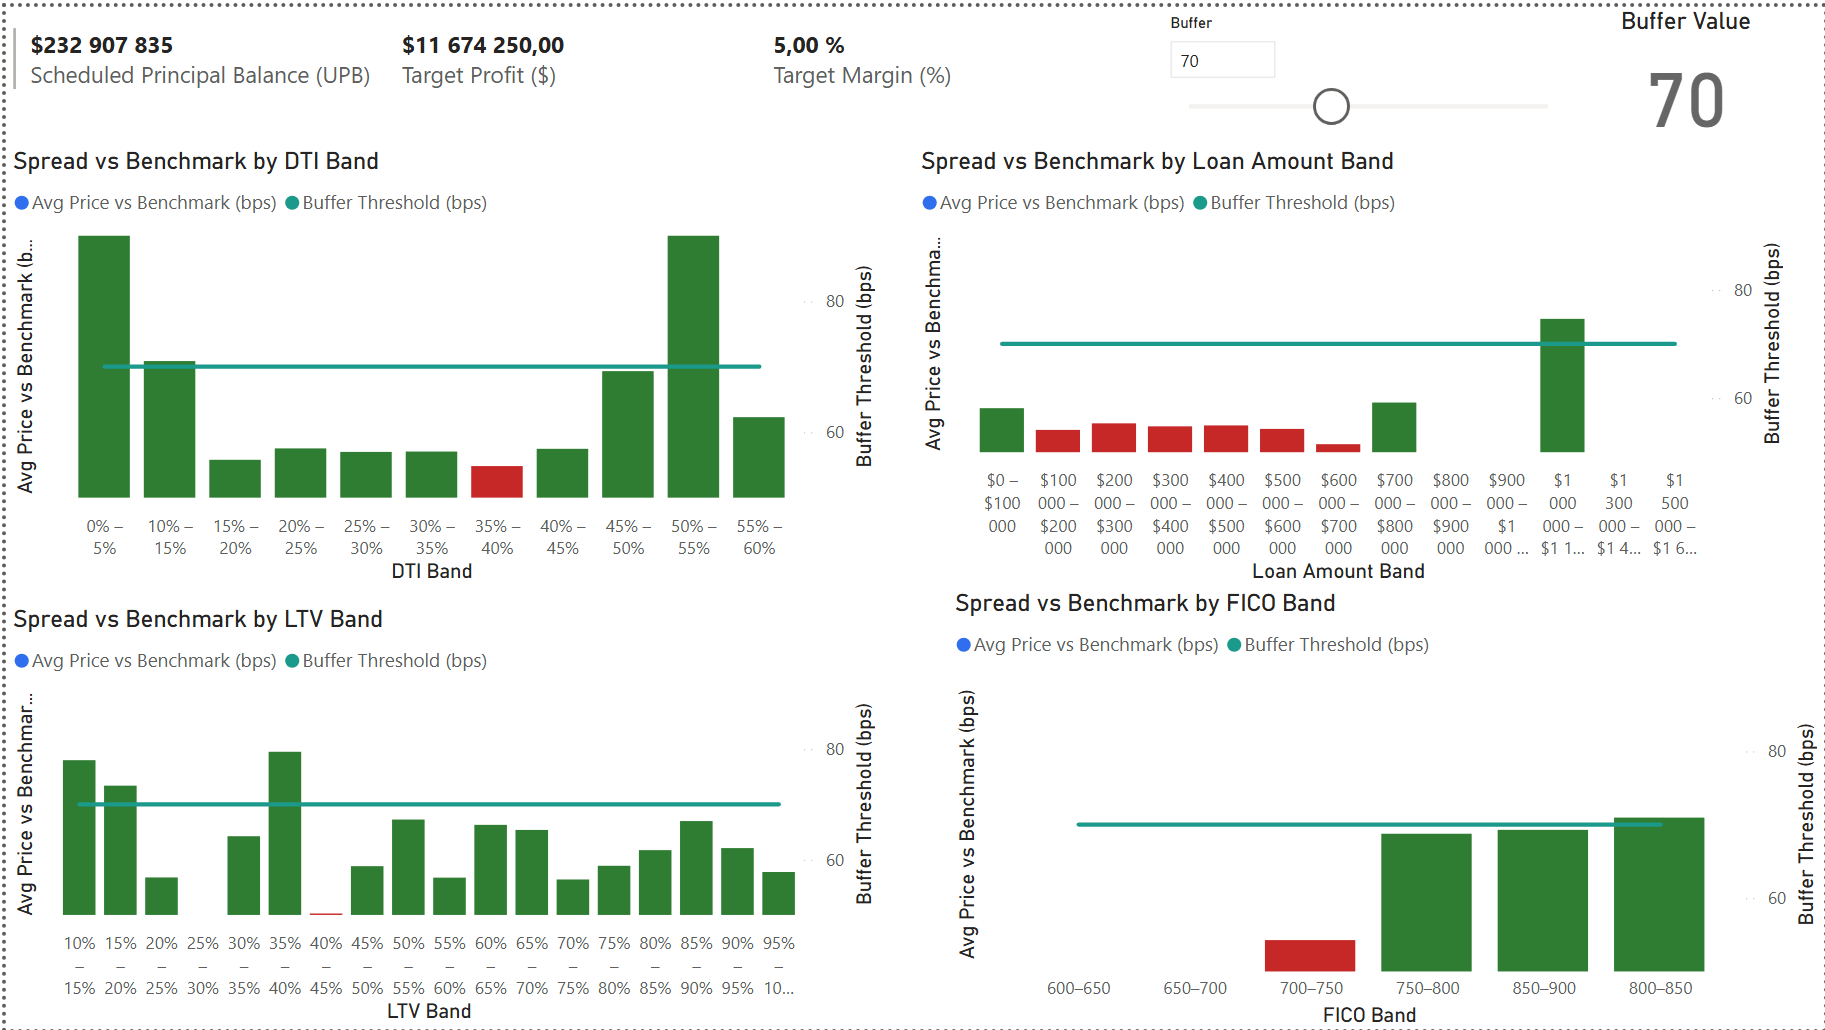

This screenshot's page, from the dashboard's own definition file:
{"tool":"powerbi","page":{"name":"Profit Analysis","canvas":[1280,720],"ordinal":4},"visuals":[{"type":"lineStackedColumnComboChart","title":"Spread vs Benchmark by LTV Band","fields":{"Category":["Portfolio_Loans.LTV Band"],"Y":["Portfolio_Loans.Avg Price vs Benchmark (bps)"],"Y2":["Portfolio_Loans.Buffer Threshold (bps)"]},"box":[0,421.1,616.9,298.6],"z":1000},{"type":"slicer","fields":{"Values":["Buffer.Buffer"]},"box":[807,0,328.2,119.7],"z":2000},{"type":"lineStackedColumnComboChart","title":"Spread vs Benchmark by FICO Band","fields":{"Category":["Portfolio_Loans.FICO Band"],"Y":["Portfolio_Loans.Avg Price vs Benchmark (bps)"],"Y2":["Portfolio_Loans.Buffer Threshold (bps)"]},"box":[663.4,409.9,616.9,312.7],"z":3000},{"type":"lineStackedColumnComboChart","title":"Spread vs Benchmark by DTI Band","fields":{"Y":["Portfolio_Loans.Avg Price vs Benchmark (bps)"],"Y2":["Portfolio_Loans.Buffer Threshold (bps)"],"Category":["Portfolio_Loans.DTI Band"]},"box":[0,98.6,616.9,311.3],"z":4000},{"type":"lineStackedColumnComboChart","title":"Spread vs Benchmark by Loan Amount Band","fields":{"Category":["Portfolio_Loans.Loan Amount Band"],"Y":["Portfolio_Loans.Avg Price vs Benchmark (bps)"],"Y2":["Portfolio_Loans.Buffer Threshold (bps)"]},"box":[639.4,98.6,616.9,311.3],"z":5000},{"type":"card","title":"Buffer Value","fields":{"Values":["Buffer.Valeur Buffer"]},"box":[1085.9,0,194.4,98.6],"z":6000},{"type":"multiRowCard","fields":{"Values":["Sum(Loan_Cashflows.Scheduled Principal Balance)","Sum(Portfolio_Loans.target_profit)","Portfolio_Loans.Target Profit Margin"]},"box":[0,9.9,807,81.7],"z":6001}]}

Visuals, with their boxes in screenshot pixels (x1, y1, x2, y2), scaled from the page's 1280x720 canvas onto the 1825x1030 screenshot:
"Spread vs Benchmark by LTV Band" lineStackedColumnComboChart: {"left": 0, "top": 602, "right": 880, "bottom": 1029}
slicer - Buffer.Buffer: {"left": 1151, "top": 0, "right": 1619, "bottom": 171}
"Spread vs Benchmark by FICO Band" lineStackedColumnComboChart: {"left": 946, "top": 586, "right": 1824, "bottom": 1029}
"Spread vs Benchmark by DTI Band" lineStackedColumnComboChart: {"left": 0, "top": 141, "right": 880, "bottom": 586}
"Spread vs Benchmark by Loan Amount Band" lineStackedColumnComboChart: {"left": 912, "top": 141, "right": 1791, "bottom": 586}
"Buffer Value" card: {"left": 1548, "top": 0, "right": 1824, "bottom": 141}
multiRowCard - Sum(Loan_Cashflows.Scheduled Principal Balance) x Sum(Portfolio_Loans.target_profit): {"left": 0, "top": 14, "right": 1151, "bottom": 131}
